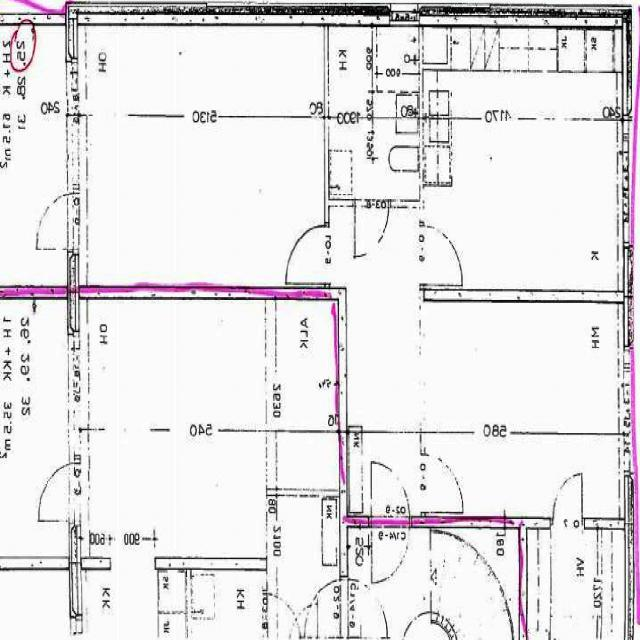door: (29, 192, 79, 250), (371, 459, 410, 528), (371, 518, 410, 587), (420, 225, 464, 285), (286, 225, 329, 283), (420, 454, 463, 512), (356, 200, 388, 258), (553, 472, 583, 528)
